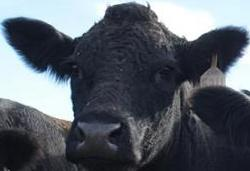muzzles: (62, 117, 138, 166)
